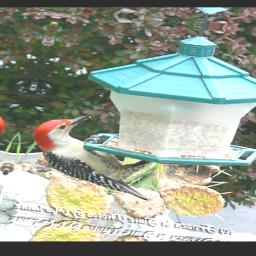Woodpecker: (17, 108, 176, 201)
